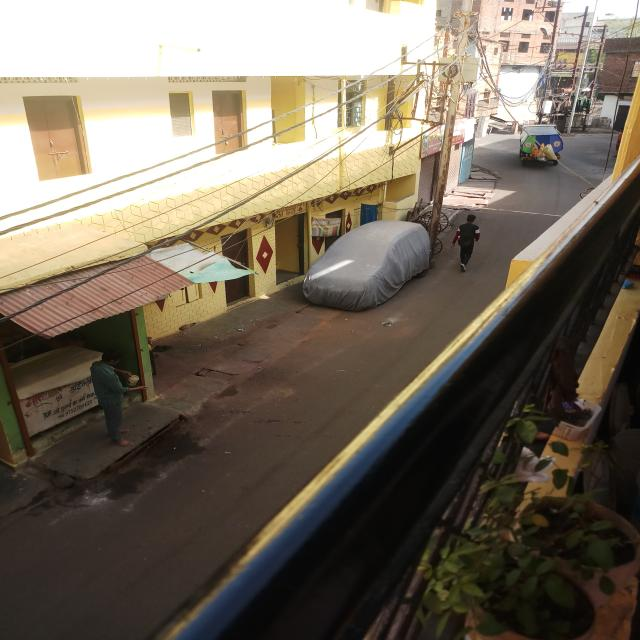Car: (298, 214, 442, 307)
tempo: (513, 121, 573, 165)
